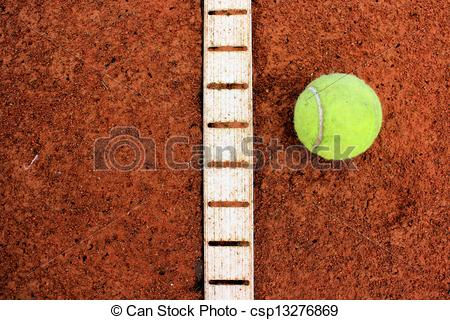tennis_ball: (292, 72, 383, 160)
